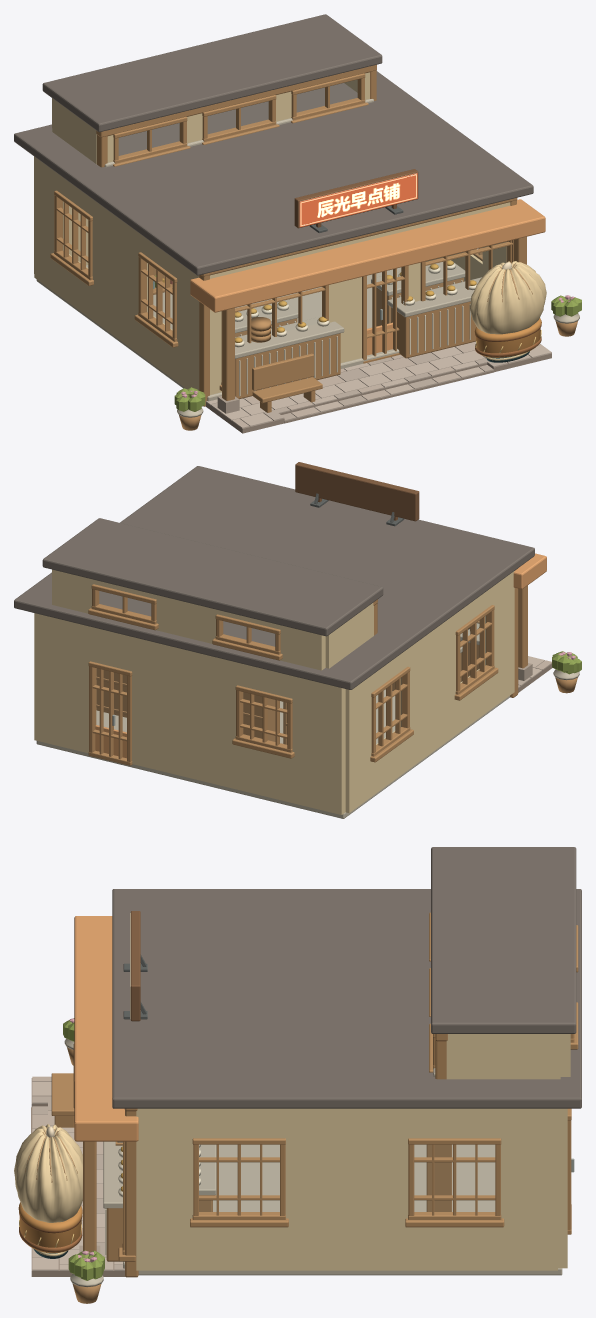
3 renders of one model, top to bottom at view 1: azimuth 30°, elevation 25°; view 2: azimuth 150°, elevation 25°; view 3: azimuth 270°, elevation 25°, orthographic. The views are drawn at different scales.
Parts seen in each view (by area): view 1: SM_09_02_曲面屋顶, SM_09_01_建筑墙体, SM_09_04_门窗楼梯, SM_09_06_景观设施, SM_09_06_院内及专用铺地, SM_09_06_门前充气招牌, SM_09_03_木构回廊, SM_09_05_景观植物; view 2: SM_09_01_建筑墙体, SM_09_02_曲面屋顶, SM_09_04_门窗楼梯, SM_09_06_景观设施, SM_09_03_木构回廊, SM_09_05_景观植物, SM_09_06_院内及专用铺地; view 3: SM_09_02_曲面屋顶, SM_09_01_建筑墙体, SM_09_04_门窗楼梯, SM_09_06_门前充气招牌, SM_09_06_景观设施, SM_09_03_木构回廊, SM_09_06_院内及专用铺地, SM_09_05_景观植物.
Boxes of the visible parts, x1,y1,x2,y2 form: SM_09_02_曲面屋顶: [14, 14, 545, 312]; SM_09_01_建筑墙体: [34, 72, 510, 401]; SM_09_04_门窗楼梯: [50, 73, 513, 390]; SM_09_06_景观设施: [153, 260, 481, 412]; SM_09_06_院内及专用铺地: [206, 341, 551, 433]; SM_09_06_门前充气招牌: [470, 261, 546, 362]; SM_09_03_木构回廊: [96, 64, 526, 406]; SM_09_05_景观植物: [174, 295, 581, 430]; SM_09_01_建筑墙体: [34, 569, 514, 818]; SM_09_02_曲面屋顶: [14, 466, 546, 689]; SM_09_04_门窗楼梯: [88, 462, 498, 765]; SM_09_06_景观设施: [96, 620, 479, 744]; SM_09_03_木构回廊: [373, 568, 527, 697]; SM_09_05_景观植物: [552, 651, 581, 693]; SM_09_06_院内及专用铺地: [518, 656, 552, 692]; SM_09_02_曲面屋顶: [74, 847, 581, 1141]; SM_09_01_建筑墙体: [123, 1034, 570, 1275]; SM_09_04_门窗楼梯: [115, 911, 578, 1261]; SM_09_06_门前充气招牌: [14, 1124, 82, 1258]; SM_09_06_景观设施: [51, 1044, 451, 1261]; SM_09_03_木构回廊: [83, 1034, 447, 1277]; SM_09_06_院内及专用铺地: [31, 1076, 125, 1276]; SM_09_05_景观植物: [63, 1018, 104, 1303].
Bounding box in the file's own units: 10.72 × 4.84 × 10.16.
31 materials, 1 textured.
